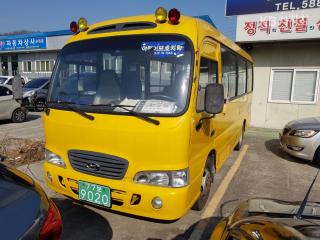0: (101, 193, 109, 205), (87, 190, 94, 202)
2: (94, 192, 101, 204)
7: (86, 183, 91, 190), (91, 184, 96, 191)
9: (80, 189, 87, 200)
보: (97, 185, 103, 193)
